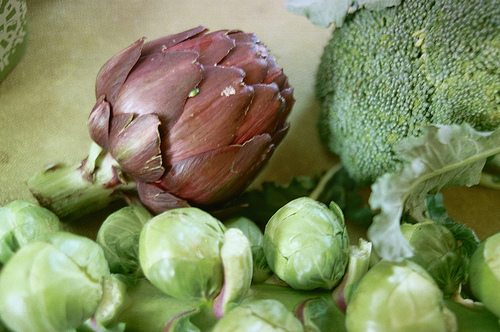broccoli: (312, 0, 499, 187)
